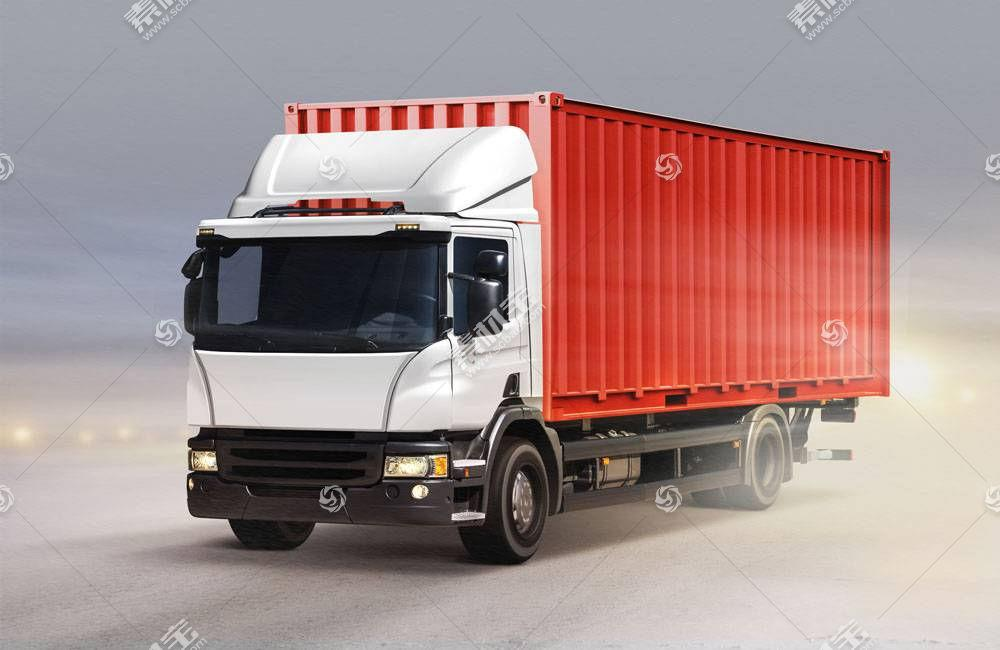truck: (144, 64, 913, 569)
